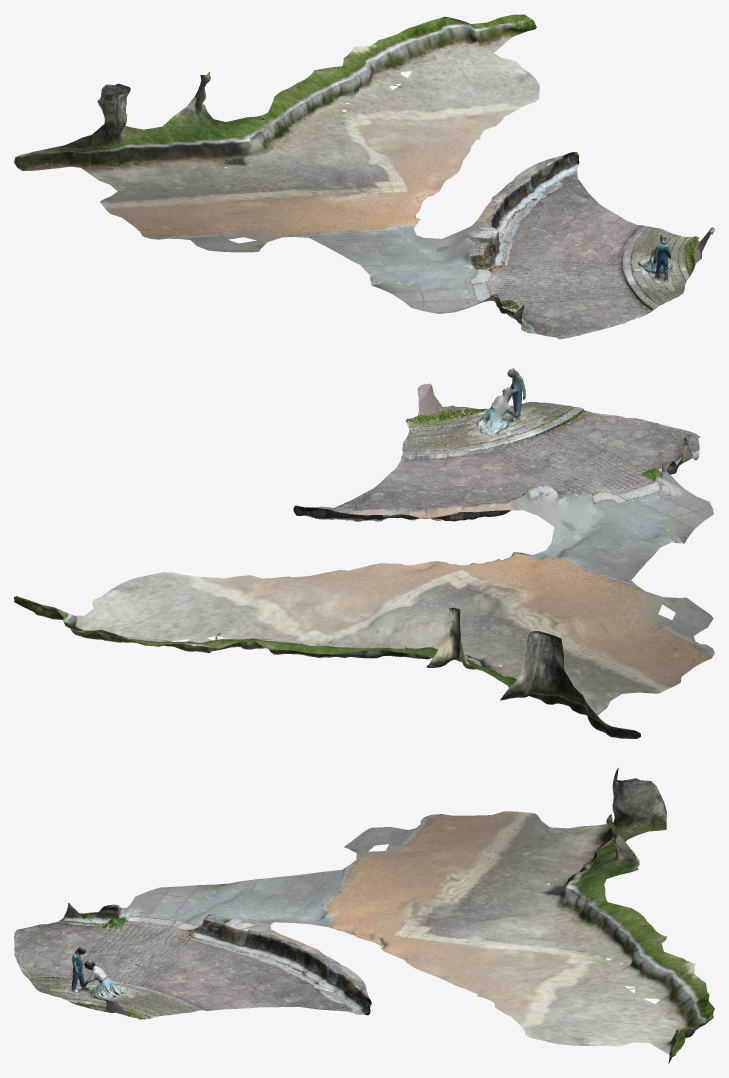
3 views of the same model, one above another, from view 1: azimuth 30°, elevation 25°; view 2: azimuth 150°, elevation 25°; view 3: azimuth 270°, elevation 25° (orthographic). The views are drawn at different scales.
Parts seen in each view (by area): view 1: baked_mesh_6f7951af; view 2: baked_mesh_6f7951af; view 3: baked_mesh_6f7951af.
Part boxes in pixels (x1,y1,x2,y2): baked_mesh_6f7951af: (14, 14, 714, 339); baked_mesh_6f7951af: (14, 368, 714, 738); baked_mesh_6f7951af: (14, 768, 714, 1063).
Size of the model in its own units: 7.01 by 0.9508 by 7.61.
1 material, 1 textured.
